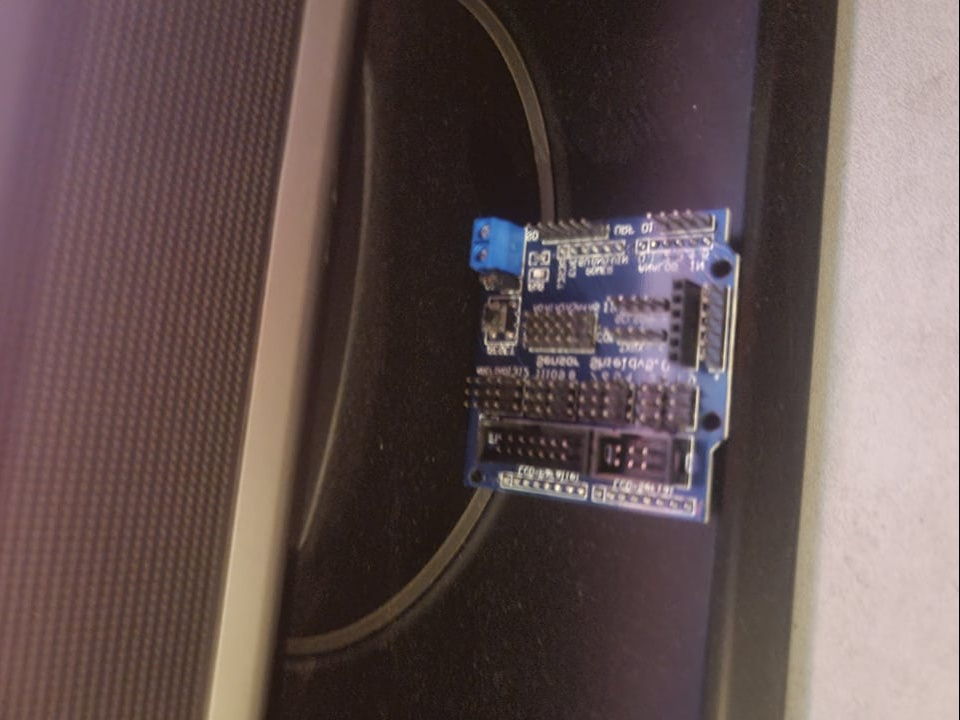5V EXPANSION: (465, 209, 743, 526)
